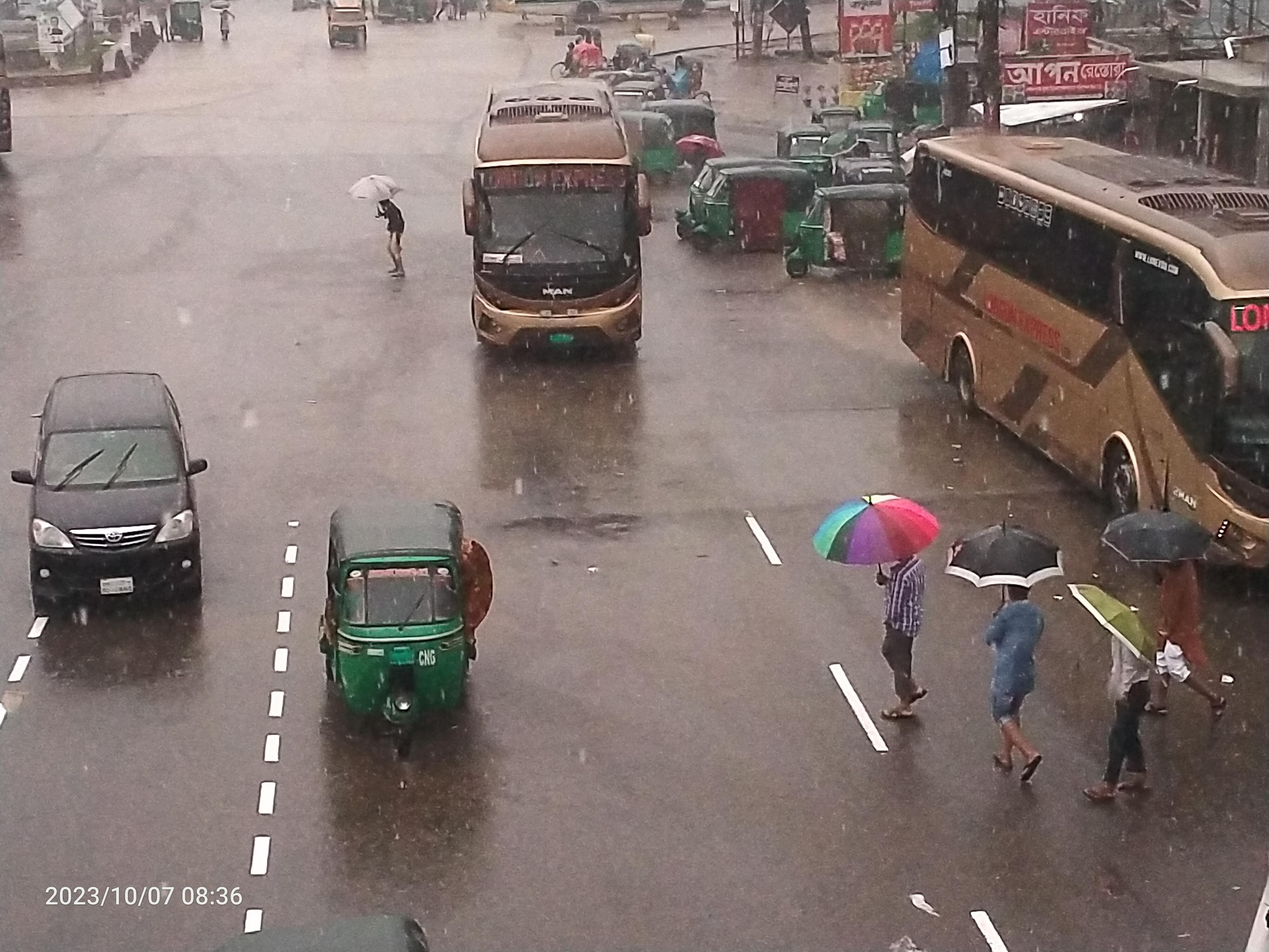Bus: (881, 93, 1269, 591), (447, 42, 686, 409)
Car: (0, 352, 245, 681), (301, 0, 378, 57)
